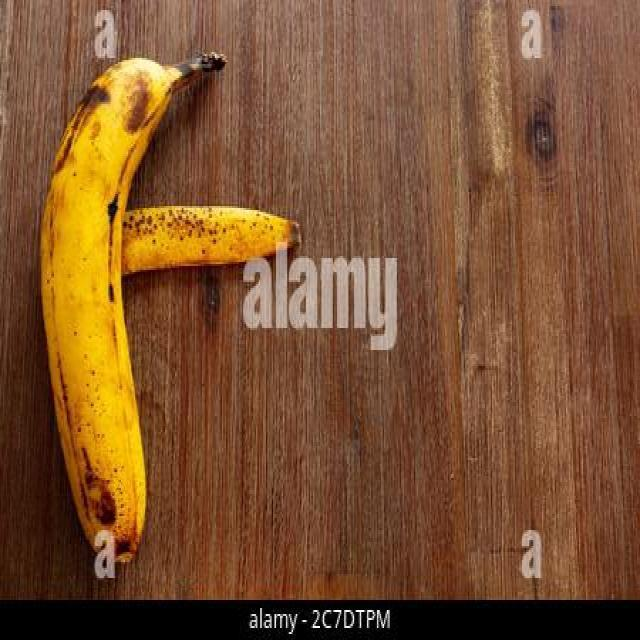Banana: (34, 44, 226, 572), (53, 198, 308, 288)
